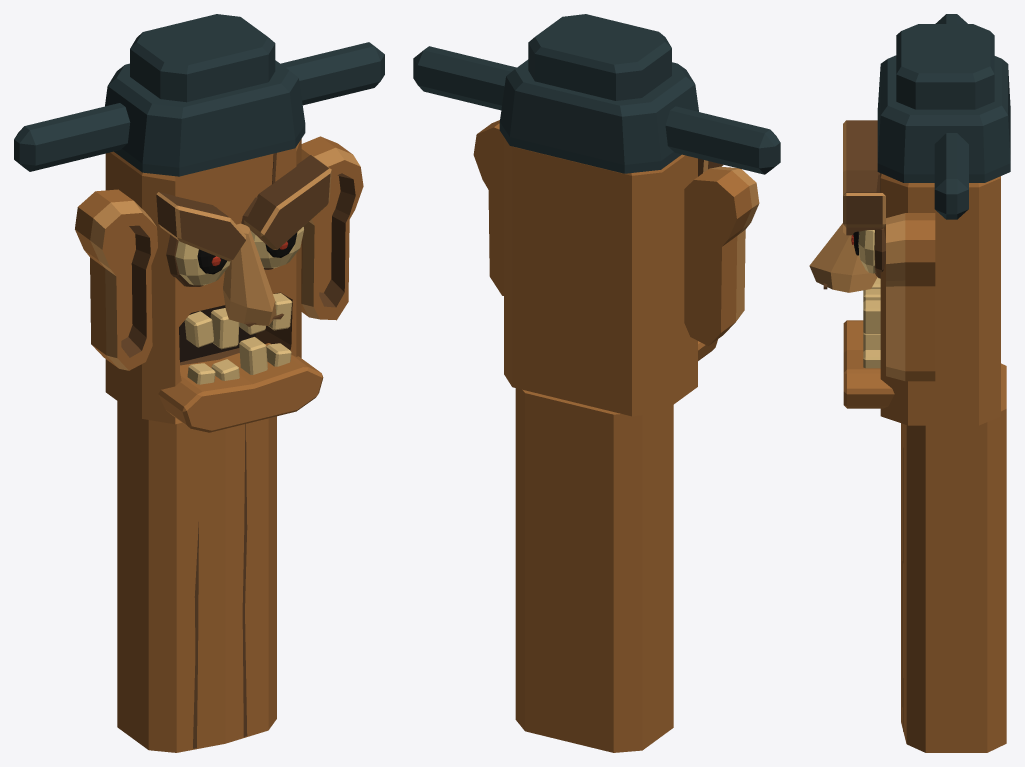
File: JangseungBoss.fbx
3 renders of one model, left to right at view 1: azimuth 30°, elevation 25°; view 2: azimuth 150°, elevation 25°; view 3: azimuth 270°, elevation 25°, orthographic. The views are drawn at different scales.
Visible parts, largest first — view 1: Body, Head, Hat, Ear_L, Ear_R; view 2: Body, Head, Hat, Ear_L, Ear_R; view 3: Body, Head, Hat, Ear_R.
Part boxes in pixels (x1,y1,x2,y2): Body: (117, 401, 276, 752); Head: (105, 139, 331, 432); Hat: (14, 14, 384, 176); Ear_L: (75, 189, 157, 370); Ear_R: (301, 136, 363, 320); Body: (515, 388, 673, 752); Head: (504, 137, 723, 416); Hat: (413, 14, 780, 174); Ear_L: (684, 166, 759, 345); Ear_R: (473, 120, 503, 295); Body: (901, 363, 1006, 752); Head: (809, 120, 1000, 425); Hat: (877, 14, 1010, 219); Ear_R: (886, 213, 935, 381).
Size of the model in its own units: 3.02 by 5.43 by 1.47.
